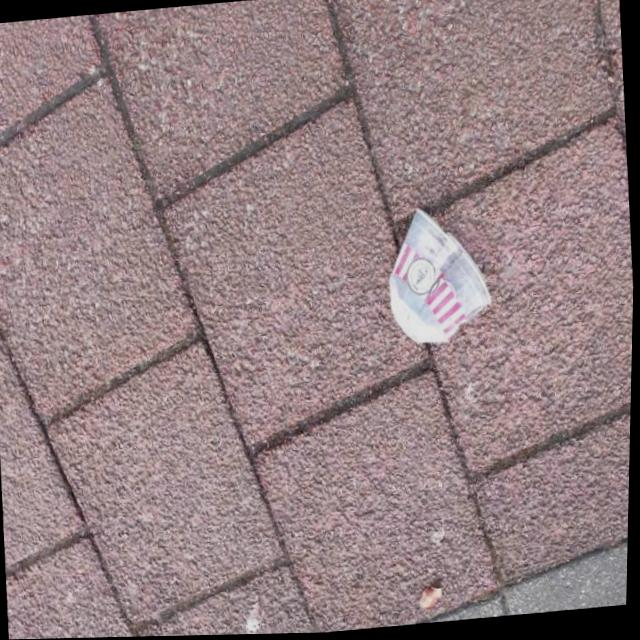Cup: (381, 195, 500, 357)
